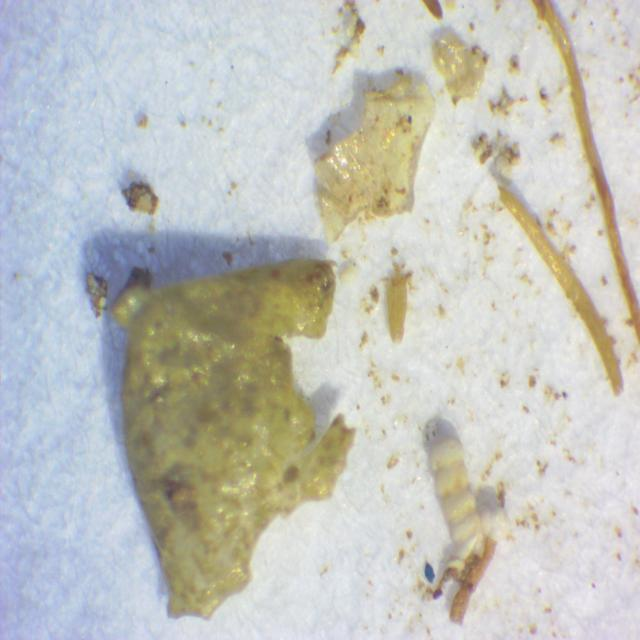microplastic: (110, 258, 354, 623)
